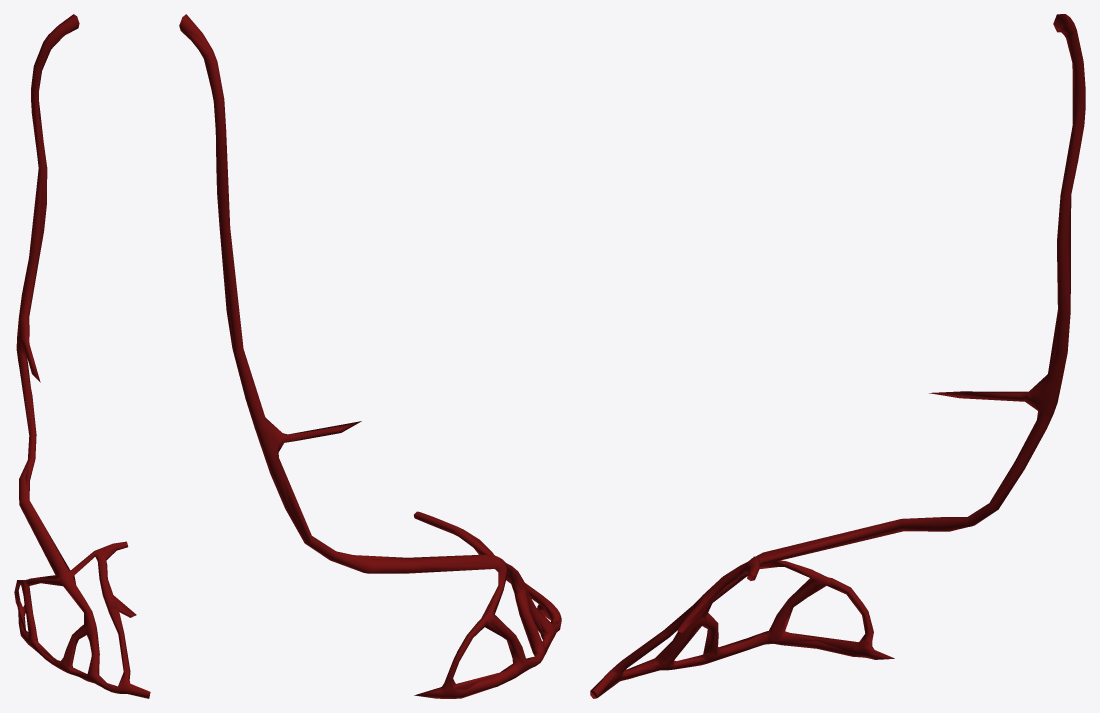
Rendered from R digitales lateralis.fbx.
3 renders of one model, left to right at view 1: azimuth 30°, elevation 25°; view 2: azimuth 150°, elevation 25°; view 3: azimuth 270°, elevation 25°, orthographic. The views are drawn at different scales.
Parts seen in each view (by area): view 1: R digitales lateralis, R digitales lateralis low; view 2: R digitales lateralis, R digitales lateralis low; view 3: R digitales lateralis, R digitales lateralis low.
Part boxes in pixels (bbox=[...]): R digitales lateralis: bbox=[14, 14, 150, 698]; R digitales lateralis low: bbox=[14, 25, 148, 693]; R digitales lateralis: bbox=[179, 14, 561, 698]; R digitales lateralis low: bbox=[180, 26, 561, 697]; R digitales lateralis: bbox=[590, 14, 1085, 698]; R digitales lateralis low: bbox=[590, 14, 1084, 697].
Size of the model in its own units: 3.54 by 12.16 by 7.29.
